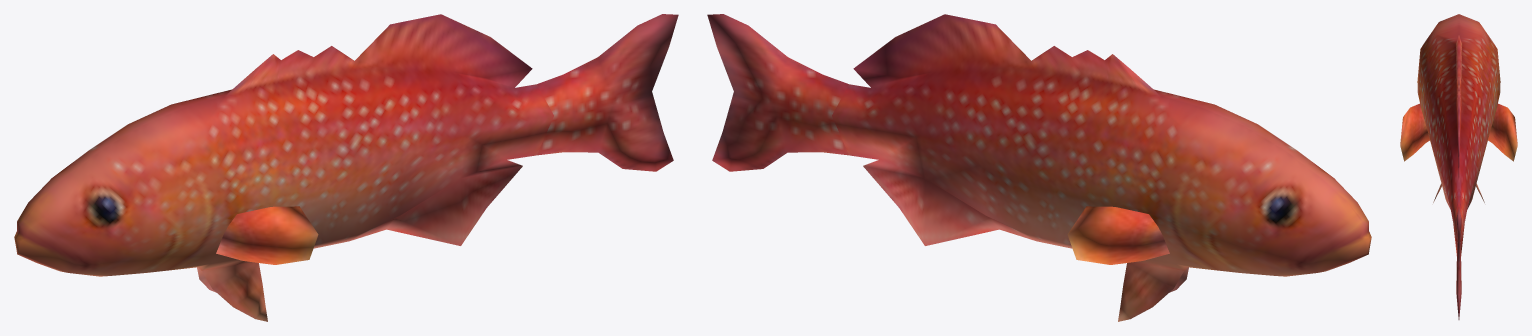
Rendered from f10_saijilu.FBX.
3 renders of one model, left to right at view 1: azimuth 30°, elevation 25°; view 2: azimuth 150°, elevation 25°; view 3: azimuth 270°, elevation 25°, orthographic. The views are drawn at different scales.
Parts seen in each view (by area): view 1: f10_saijilu; view 2: f10_saijilu; view 3: f10_saijilu.
Part boxes in pixels (bbox=[...]): f10_saijilu: bbox=[14, 14, 678, 321]; f10_saijilu: bbox=[707, 14, 1371, 321]; f10_saijilu: bbox=[1400, 14, 1517, 319].
Bounding box in the file's own units: 79.09 × 28.49 × 16.95.
